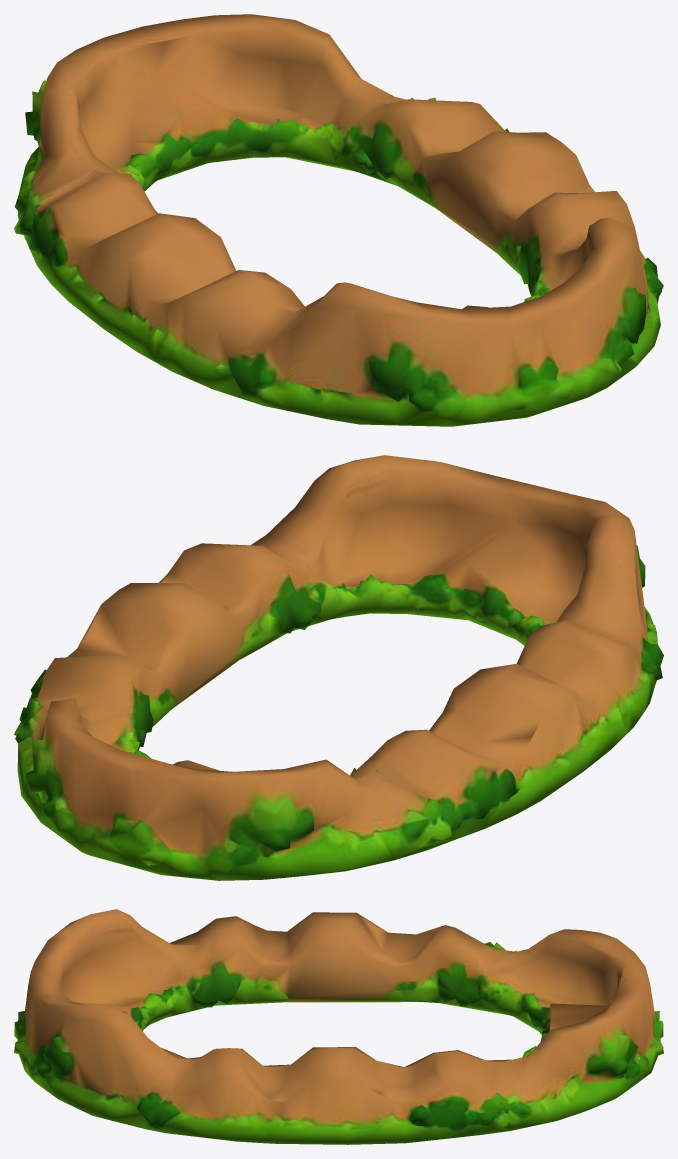
File: pumptrack.glb
3 renders of one model, top to bottom at view 1: azimuth 30°, elevation 25°; view 2: azimuth 150°, elevation 25°; view 3: azimuth 270°, elevation 25°, orthographic. The views are drawn at different scales.
Parts seen in each view (by area): view 1: model; view 2: model; view 3: model.
Boxes of the visible parts, x1,y1,x2,y2 form: model: [14, 14, 663, 426]; model: [14, 455, 663, 880]; model: [14, 909, 663, 1144].
Size of the model in its own units: 1.27 by 0.3064 by 1.9.
1 material, 1 textured.
